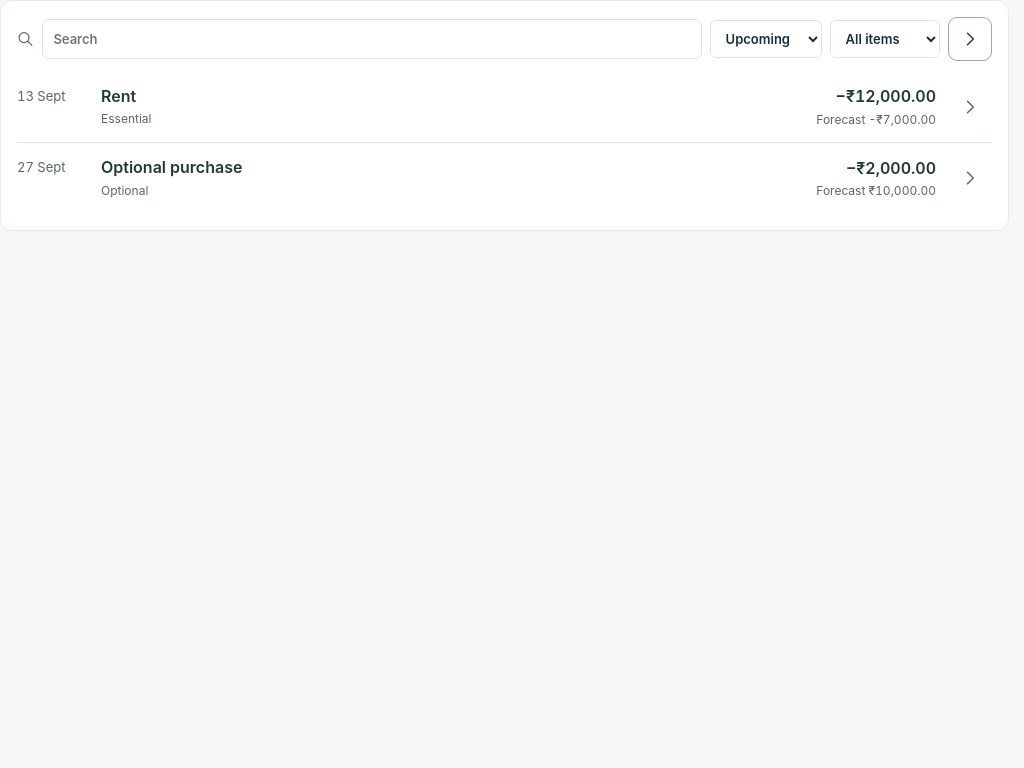
Test: shows a dated compact default with one shared forecast explanation instead of repeated visible qualifications
Check: the heading "Rent" is shown, box [101,86,136,106]
Check: the text "Essential" is shown, box [101,110,152,129]
Click the button named "About this forecast".
click(970, 39)  # box [948,17,992,61]
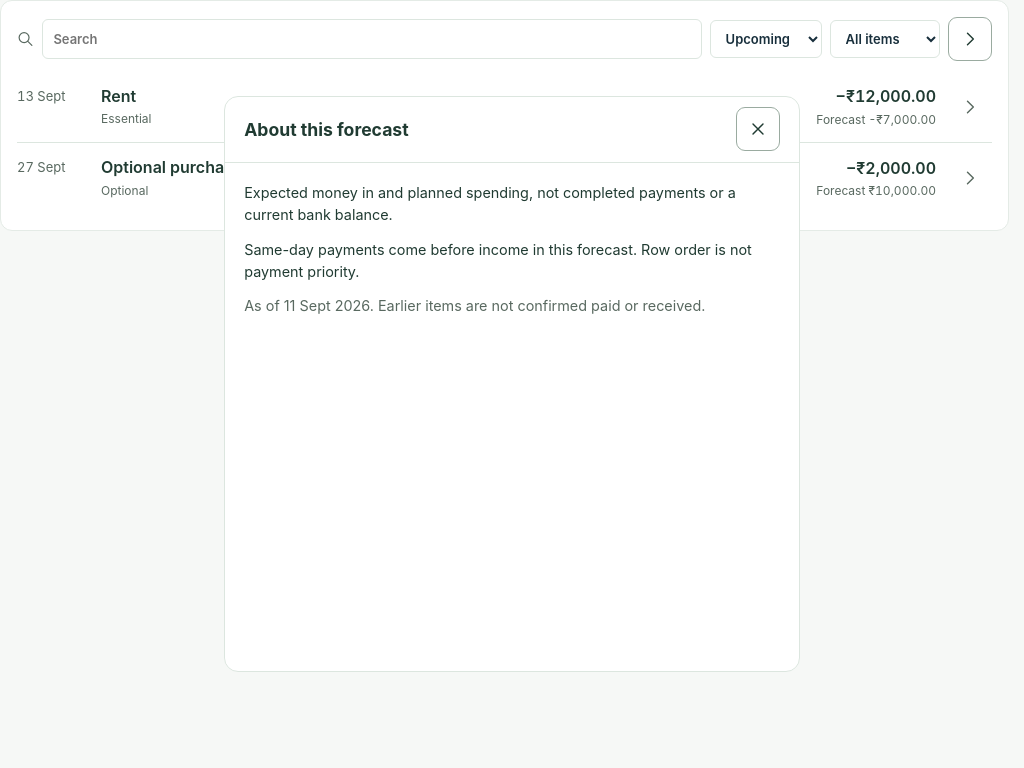
Check: the text "Expected money in and planned spending, not completed payments or a current bank balance." is shown, box [244,184,736,223]
Check: the text "Same-day payments come before income in this forecast. Row order is not payment priority." is shown, box [244,241,752,280]
Check: the text "As of 11 Sept 2026. Earlier items are not confirmed paid or received." is shown, box [244,295,780,318]
